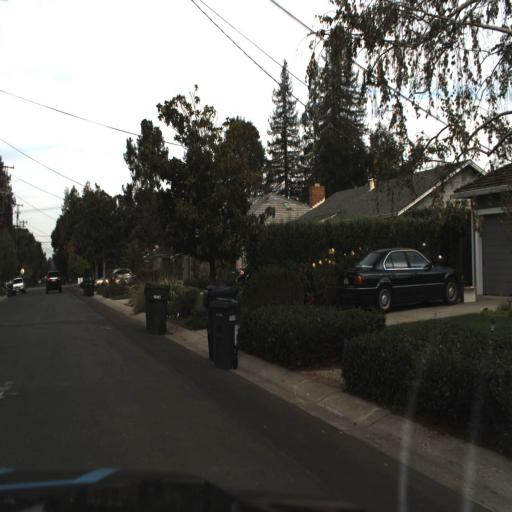car: (341, 246, 463, 313), (92, 270, 129, 300), (231, 248, 255, 292), (112, 260, 136, 284), (9, 270, 28, 297), (45, 269, 63, 294)
